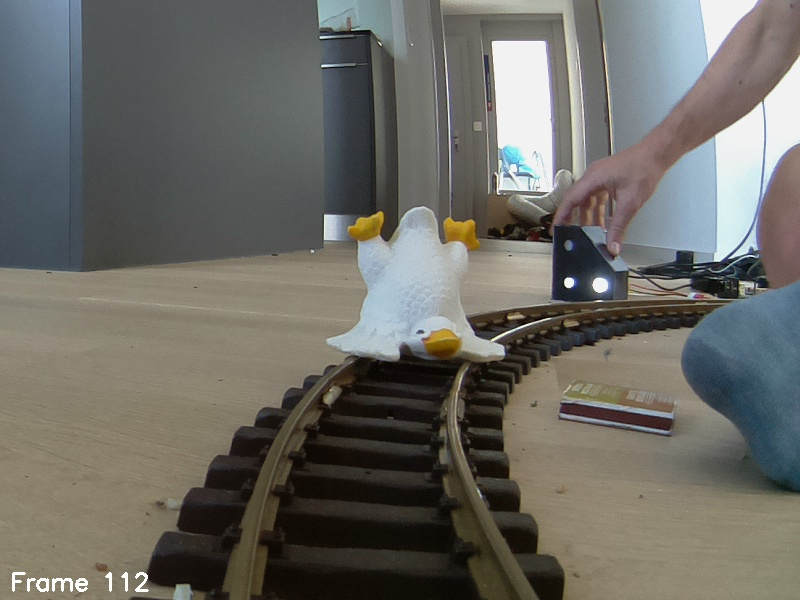Halt: (551, 225, 627, 302)
